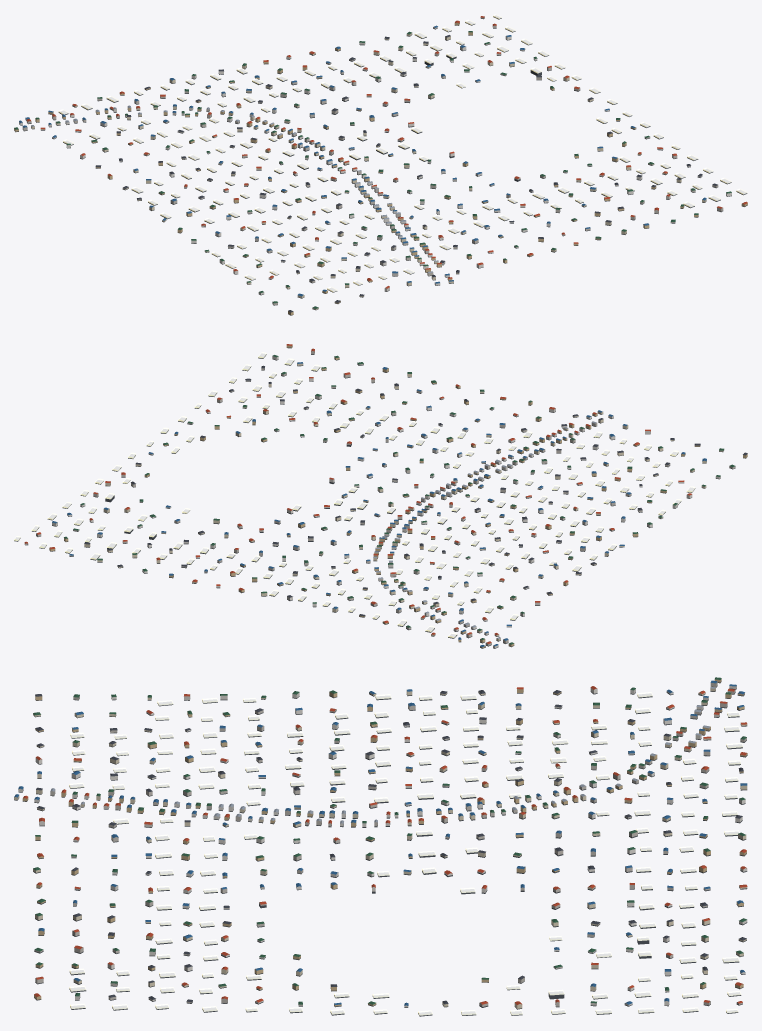
Rendered from buildings_T_E00_N02.glb.
The picture shows the model from 3 angles, top to bottom: view 1: azimuth 30°, elevation 25°; view 2: azimuth 150°, elevation 25°; view 3: azimuth 270°, elevation 25°; orthographic projection. The views are drawn at different scales.
Visible parts, largest first — view 1: T_E00_N02_slope_seating_foundations, T_E00_N02_roofs_agri_greenhouse_arch, T_E00_N02_walls_wall_french_ochre_villa, T_E00_N02_walls_wall_modern_warm_white, T_E00_N02_walls_wall_dalat_cream_stucco, T_E00_N02_walls_wall_pastel_sand_gray, T_E00_N02_roofs_roof_highland_blue_gable, T_E00_N02_roofs_roof_pine_green_hip, T_E00_N02_roofs_roof_terracotta_gable, T_E00_N02_roofs_roof_slate_French_villa_hip; view 2: T_E00_N02_slope_seating_foundations, T_E00_N02_roofs_agri_greenhouse_arch, T_E00_N02_walls_wall_french_ochre_villa, T_E00_N02_walls_wall_modern_warm_white, T_E00_N02_walls_wall_dalat_cream_stucco, T_E00_N02_walls_wall_pastel_sand_gray, T_E00_N02_roofs_roof_highland_blue_gable, T_E00_N02_roofs_roof_pine_green_hip, T_E00_N02_roofs_roof_terracotta_gable, T_E00_N02_roofs_roof_slate_French_villa_hip; view 3: T_E00_N02_slope_seating_foundations, T_E00_N02_roofs_agri_greenhouse_arch, T_E00_N02_walls_wall_french_ochre_villa, T_E00_N02_walls_wall_modern_warm_white, T_E00_N02_walls_wall_dalat_cream_stucco, T_E00_N02_walls_wall_pastel_sand_gray, T_E00_N02_roofs_roof_highland_blue_gable, T_E00_N02_roofs_roof_pine_green_hip, T_E00_N02_roofs_roof_terracotta_gable, T_E00_N02_roofs_roof_slate_French_villa_hip.
Part boxes in pixels (x1,y1,x2,y2): T_E00_N02_slope_seating_foundations: (14,16,747,315); T_E00_N02_roofs_agri_greenhouse_arch: (58,14,747,292); T_E00_N02_walls_wall_french_ochre_villa: (14,22,747,315); T_E00_N02_walls_wall_modern_warm_white: (19,27,731,294); T_E00_N02_walls_wall_dalat_cream_stucco: (31,33,706,309); T_E00_N02_walls_wall_pastel_sand_gray: (22,17,723,305); T_E00_N02_roofs_roof_highland_blue_gable: (19,25,706,296); T_E00_N02_roofs_roof_pine_green_hip: (14,31,731,308); T_E00_N02_roofs_roof_terracotta_gable: (27,16,747,288); T_E00_N02_roofs_roof_slate_French_villa_hip: (95,35,717,312); T_E00_N02_slope_seating_foundations: (14,346,746,648); T_E00_N02_roofs_agri_greenhouse_arch: (14,352,695,637); T_E00_N02_walls_wall_french_ochre_villa: (49,344,747,648); T_E00_N02_walls_wall_modern_warm_white: (52,356,720,648); T_E00_N02_walls_wall_dalat_cream_stucco: (84,363,724,640); T_E00_N02_walls_wall_pastel_sand_gray: (24,350,735,645); T_E00_N02_roofs_roof_highland_blue_gable: (52,362,706,647); T_E00_N02_roofs_roof_pine_green_hip: (64,355,735,644); T_E00_N02_roofs_roof_terracotta_gable: (24,344,691,643); T_E00_N02_roofs_roof_slate_French_villa_hip: (84,365,747,616); T_E00_N02_slope_seating_foundations: (14,681,747,1016); T_E00_N02_roofs_agri_greenhouse_arch: (69,692,742,1015); T_E00_N02_walls_wall_french_ochre_villa: (22,679,747,1006); T_E00_N02_walls_wall_modern_warm_white: (18,685,747,1007); T_E00_N02_walls_wall_dalat_cream_stucco: (14,687,747,1008); T_E00_N02_walls_wall_pastel_sand_gray: (34,681,746,1006); T_E00_N02_roofs_roof_highland_blue_gable: (14,680,747,1005); T_E00_N02_roofs_roof_pine_green_hip: (33,677,746,1004); T_E00_N02_roofs_roof_terracotta_gable: (23,686,747,1004); T_E00_N02_roofs_roof_slate_French_villa_hip: (35,690,746,1004).
Size of the model in its own units: 1815 by 65.93 by 1748.
